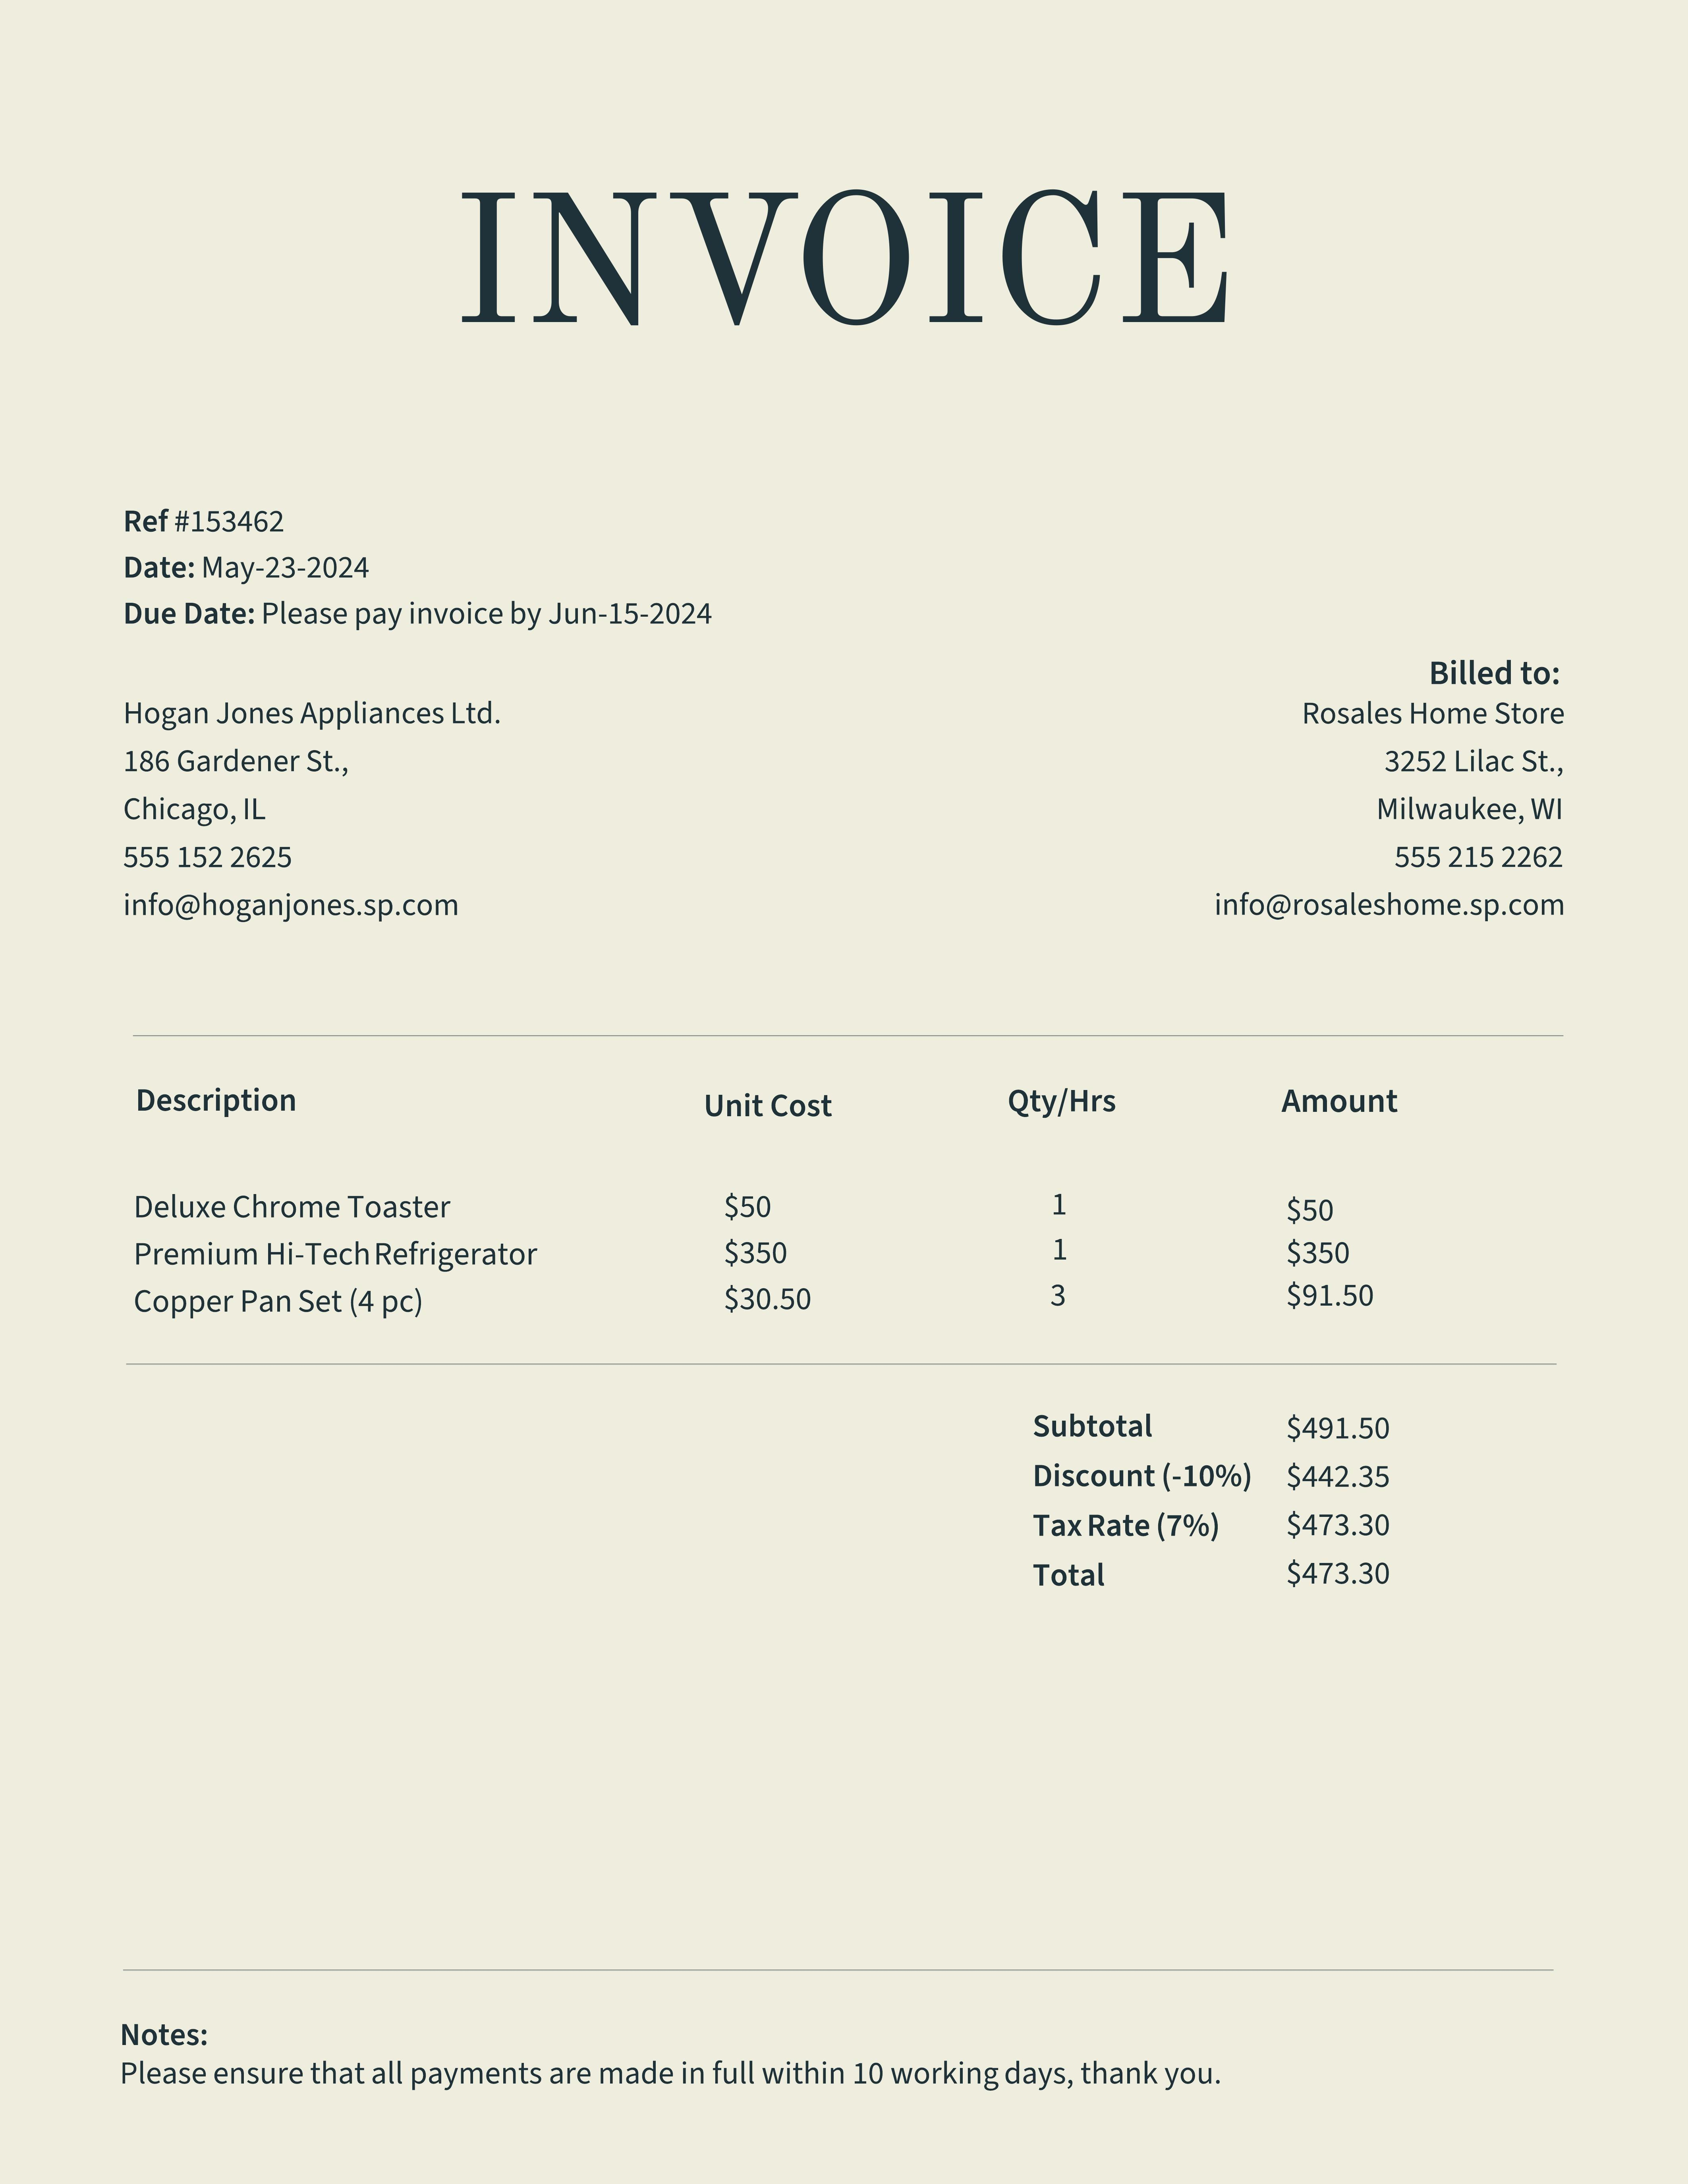ROI: (129, 1082, 1412, 1316), (109, 681, 528, 949), (1199, 641, 1589, 927), (105, 488, 721, 637), (105, 2023, 1223, 2093), (1023, 1400, 1400, 1596)
